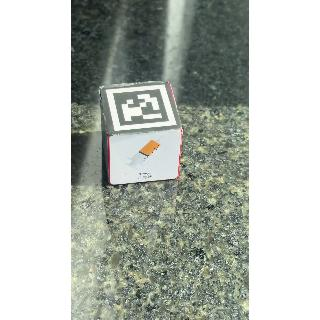Syringe: (109, 132, 182, 184)
